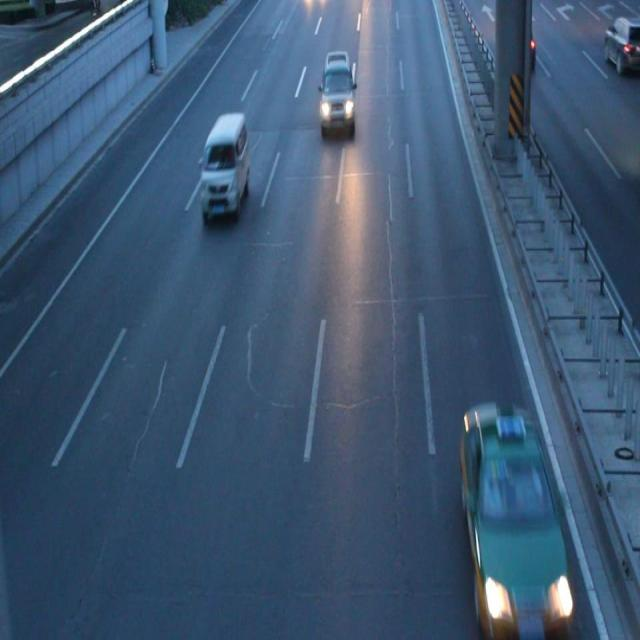car: (457, 406, 570, 614)
truck: (198, 112, 249, 220), (318, 52, 355, 131)
